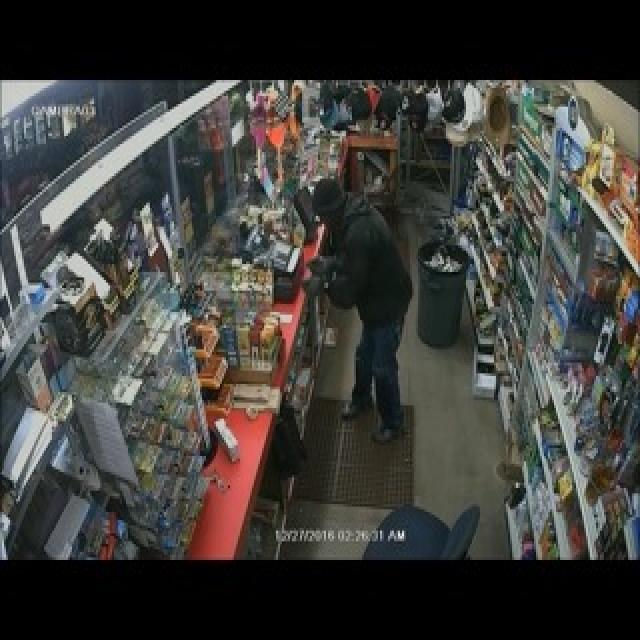thief: (294, 170, 410, 346)
